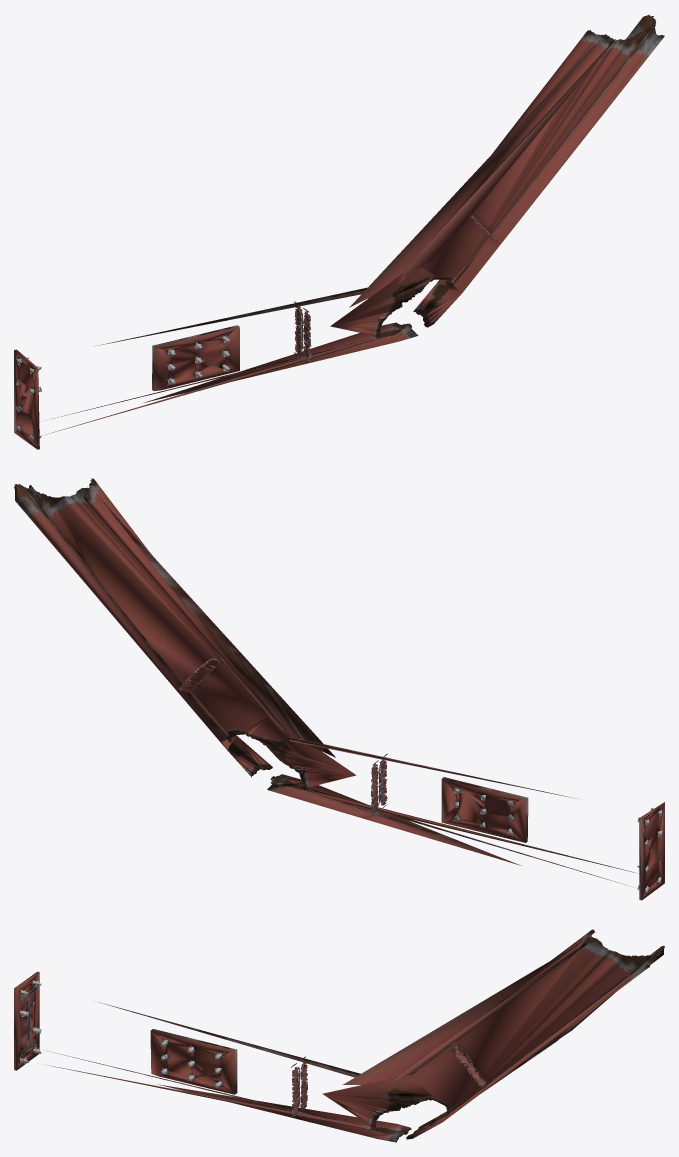
The model's file is industrial_steel_girder_premium_lod2.glb.
3 views of the same model, one above another, from view 1: azimuth 30°, elevation 25°; view 2: azimuth 150°, elevation 25°; view 3: azimuth 330°, elevation 25° (orthographic).
Parts seen in each view (by area): view 1: industrial_steel_girder_premium, bolts; view 2: industrial_steel_girder_premium; view 3: industrial_steel_girder_premium, bolts, welds.
Part boxes in pixels (x1,y1,x2,y2): industrial_steel_girder_premium: [14, 14, 664, 449]; bolts: [15, 336, 229, 442]; industrial_steel_girder_premium: [14, 478, 664, 900]; industrial_steel_girder_premium: [14, 929, 664, 1142]; bolts: [19, 980, 222, 1088]; welds: [20, 986, 485, 1117].
Size of the model in its own units: 4 by 1.61 by 0.2806.
3 materials, 1 textured.
